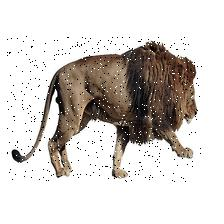Lion: (8, 37, 203, 183)
